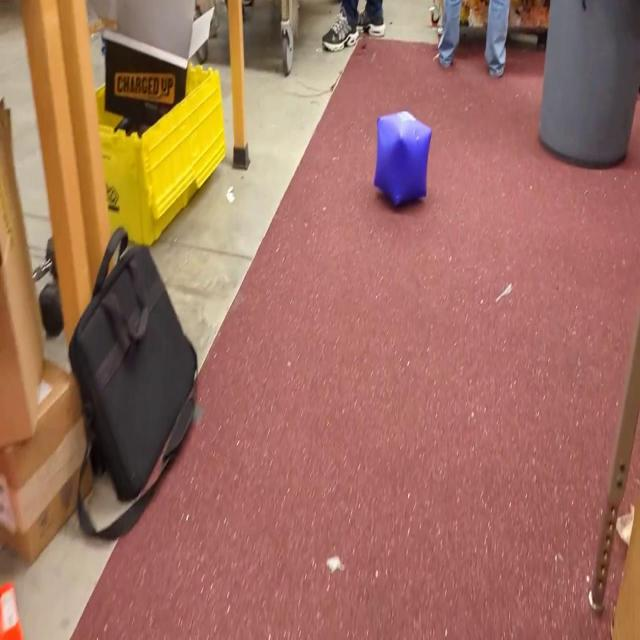frc_cube: (374, 105, 434, 212)
